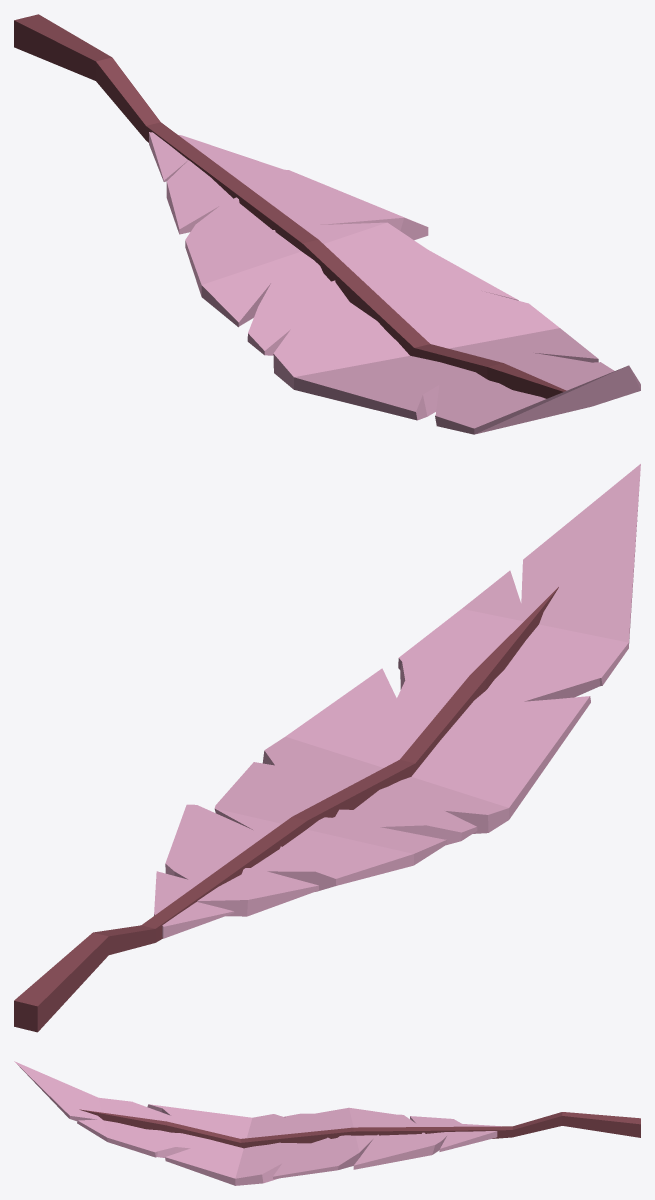
The model's file is feather.fbx.
3 views of the same model, one above another, from view 1: azimuth 30°, elevation 25°; view 2: azimuth 150°, elevation 25°; view 3: azimuth 270°, elevation 25° (orthographic). The views are drawn at different scales.
Visible parts, largest first — view 1: Cube.002; view 2: Cube.002; view 3: Cube.002.
Boxes of the visible parts, bbox=[...] form: Cube.002: bbox=[14, 14, 640, 434]; Cube.002: bbox=[14, 464, 640, 1032]; Cube.002: bbox=[14, 1061, 640, 1185].
Bounding box in the file's own units: 0.3762 × 0.2646 × 1.62.
